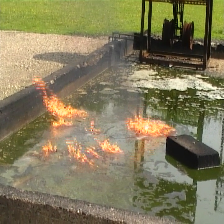fire_h: (32, 75, 88, 129), (127, 114, 176, 140), (66, 138, 98, 166)
fire_l: (97, 139, 122, 154), (43, 140, 57, 155), (90, 119, 99, 132)
